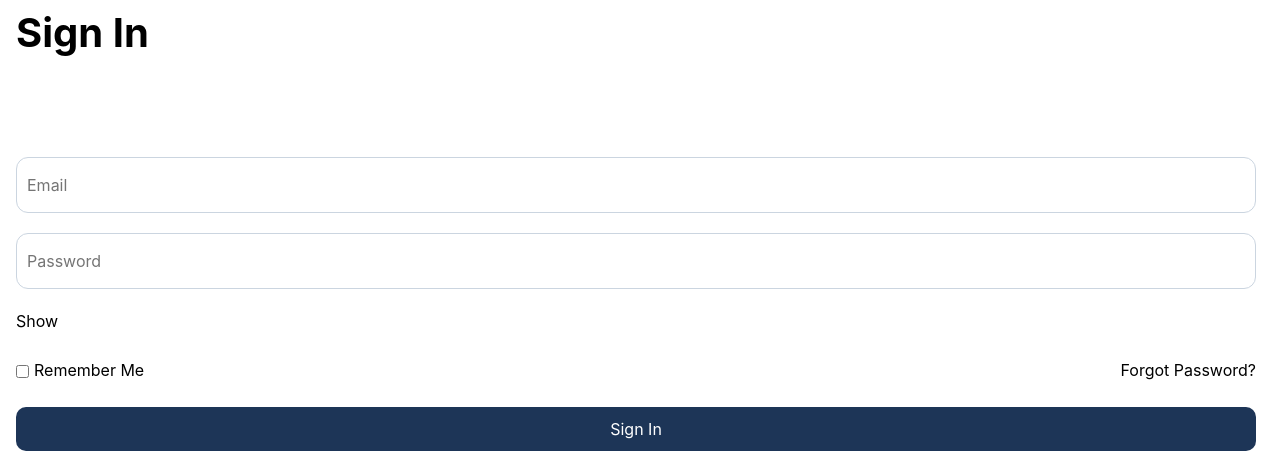
Test: LoginComponent › toggles password visibility
The width and height of the screenshot is (1273, 468).
Click the button "Show": (37, 321) [16,309,1256,333]
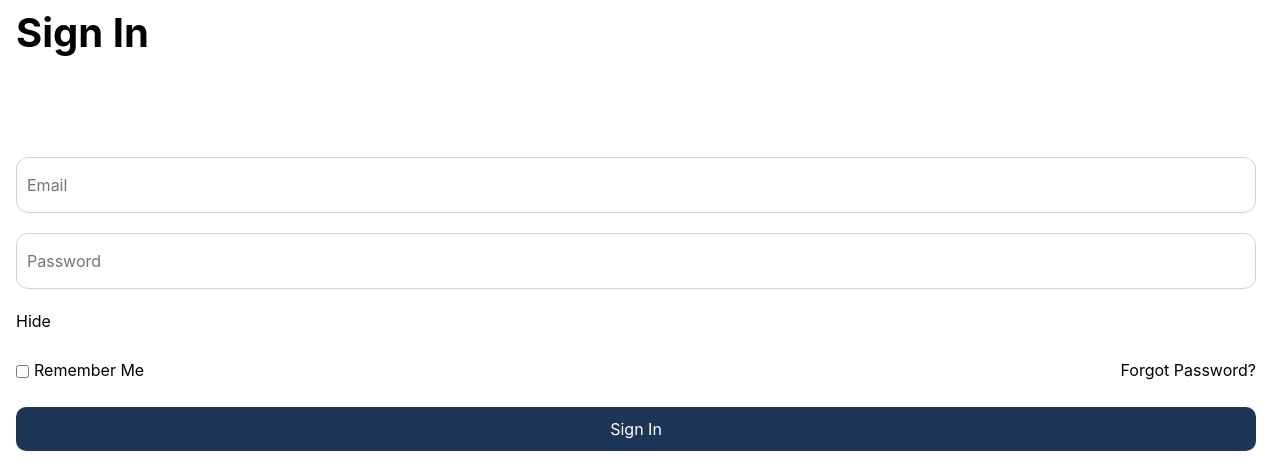
Now the button "Hide" is shown
Click the button "Hide": (33, 321) [16,309,1256,333]
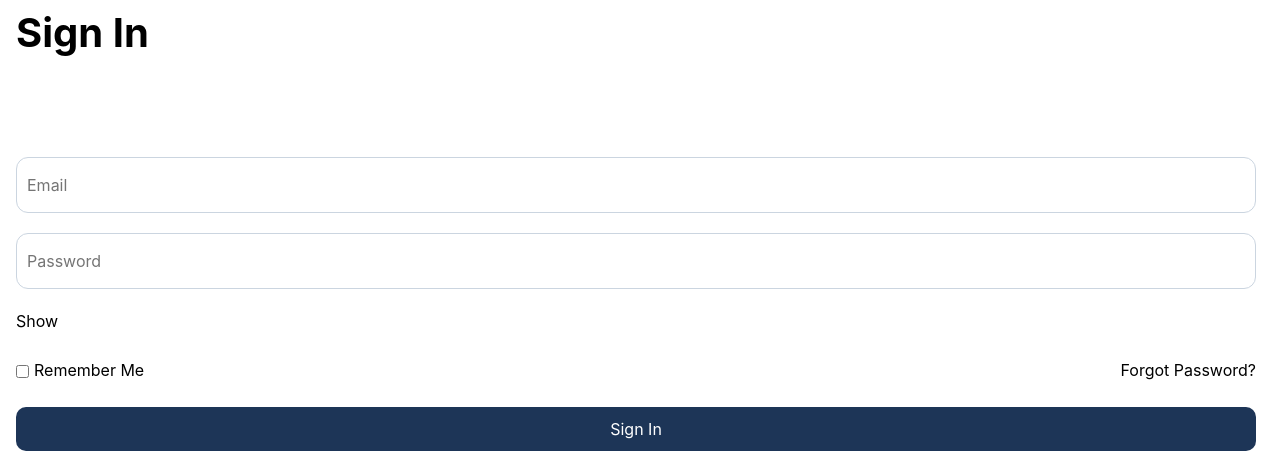
Now the button "Show" is shown, box [16,309,1256,333]
